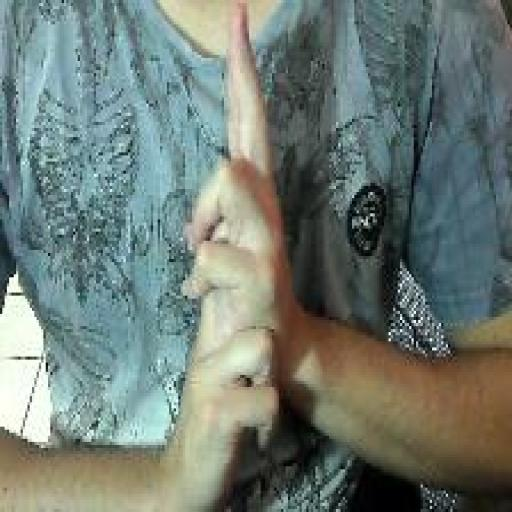Hitsuji -ram-: (178, 2, 290, 508)
